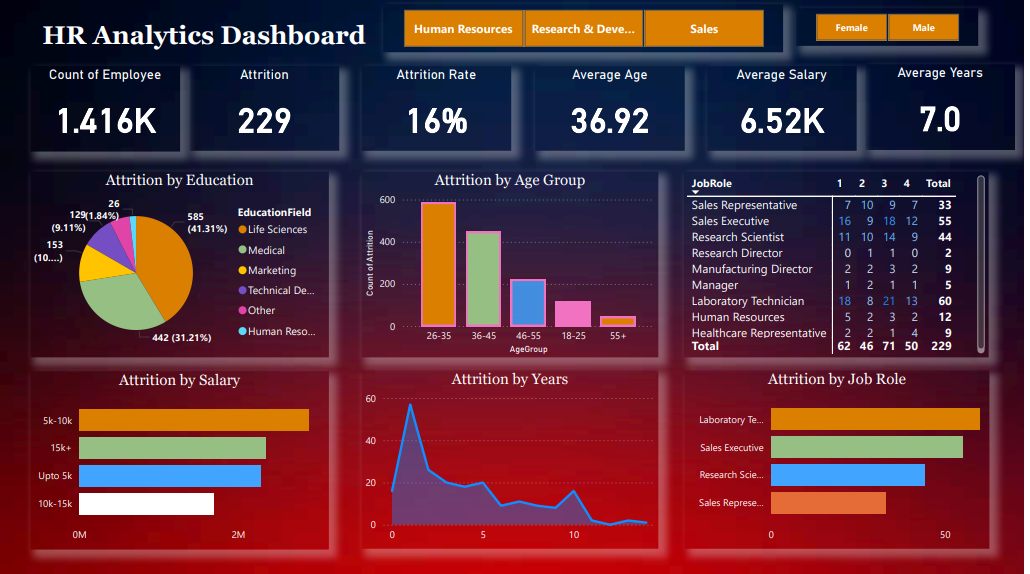

The page's visual inventory and layout, read from the dashboard file:
{"tool":"powerbi","page":{"name":"Page 1","canvas":[1380,720],"ordinal":0},"visuals":[{"type":"card","fields":{"Values":["HR Analystics dataset.Employee_attritions"]},"box":[184,114.3,129.1,92],"z":0},{"type":"card","fields":{"Values":["HR Analystics dataset.Empolyee_Count"]},"box":[31.2,114.3,143.9,92],"z":1000},{"type":"card","fields":{"Values":["HR Analystics dataset.Years_with_txt"]},"box":[323.5,112.8,146.9,97.9],"z":2000},{"type":"card","fields":{"Values":["HR Analystics dataset.Attritions%"]},"box":[32.6,234.5,142.5,97.9],"z":3000},{"type":"card","fields":{"Values":["HR Analystics dataset.Avg_Salary"]},"box":[184.5,233.9,129.6,97.9],"z":4000},{"type":"card","fields":{"Values":["HR Analystics dataset.Avg_Age"]},"box":[323.5,233,146.9,97.9],"z":5000},{"type":"areaChart","fields":{"Y":["CountNonNull(HR Analystics dataset.Attrition)"],"Category":["HR Analystics dataset.YearsAtCompany"]},"box":[14.8,373.9,439.2,326.5],"z":6000},{"type":"donutChart","fields":{"Y":["HR Analystics dataset.Employee_attritions"],"Category":["HR Analystics dataset.EducationField"]},"box":[489.7,373.9,461.5,326.5],"z":7000},{"type":"clusteredColumnChart","fields":{"Category":["HR Analystics dataset.AgeGroup"],"Y":["HR Analystics dataset.Employee_attritions"]},"box":[504.5,96.5,431.8,264.1],"z":8000},{"type":"hundredPercentStackedBarChart","fields":{"Y":["HR Analystics dataset.Employee_attritions"],"Series":["HR Analystics dataset.JobSatisfaction"],"Category":["HR Analystics dataset.JobRole"]},"box":[966,84.6,393.2,615.8],"z":9000},{"type":"textbox","box":[32.6,11.9,603.9,72.7],"z":10000}]}

Visuals, with their boxes on the page's 1380x720 design canvas (x1, y1, x2, y2). These are canvas units, not pixel positions in the 1030x574 screenshot, which may show the page scaled, cropped or inside an application window:
card - HR Analystics dataset.Employee_attritions: region(184, 114, 313, 206)
card - HR Analystics dataset.Empolyee_Count: region(31, 114, 175, 206)
card - HR Analystics dataset.Years_with_txt: region(324, 113, 470, 211)
card - HR Analystics dataset.Attritions%: region(33, 234, 175, 332)
card - HR Analystics dataset.Avg_Salary: region(184, 234, 314, 332)
card - HR Analystics dataset.Avg_Age: region(324, 233, 470, 331)
areaChart - CountNonNull(HR Analystics dataset.Attrition) x HR Analystics dataset.YearsAtCompany: region(15, 374, 454, 700)
donutChart - HR Analystics dataset.Employee_attritions x HR Analystics dataset.EducationField: region(490, 374, 951, 700)
clusteredColumnChart - HR Analystics dataset.AgeGroup x HR Analystics dataset.Employee_attritions: region(504, 96, 936, 361)
hundredPercentStackedBarChart - HR Analystics dataset.Employee_attritions x HR Analystics dataset.JobSatisfaction: region(966, 85, 1359, 700)
textbox: region(33, 12, 636, 85)
